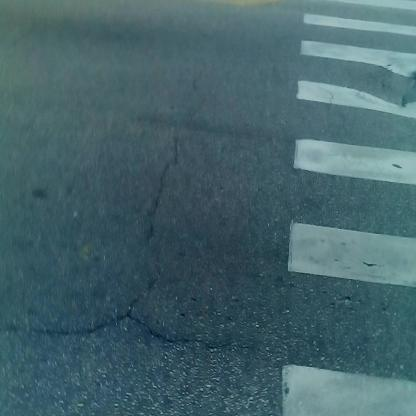crosswalk: (272, 1, 416, 406)
